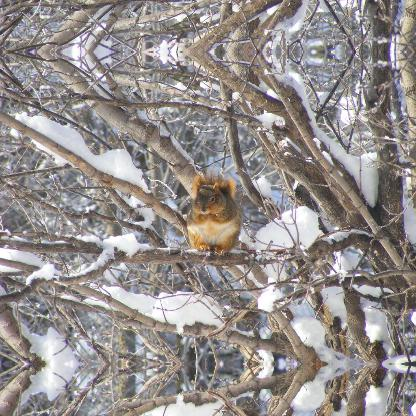Squirrel: (186, 168, 245, 256)
